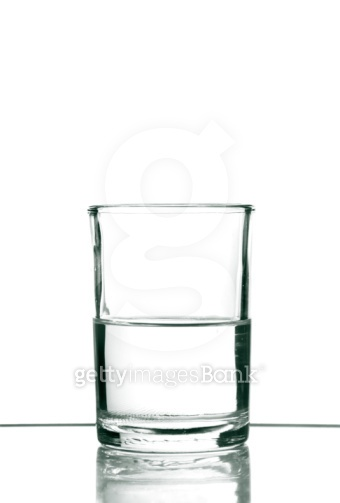glass of water: (85, 200, 256, 446)
